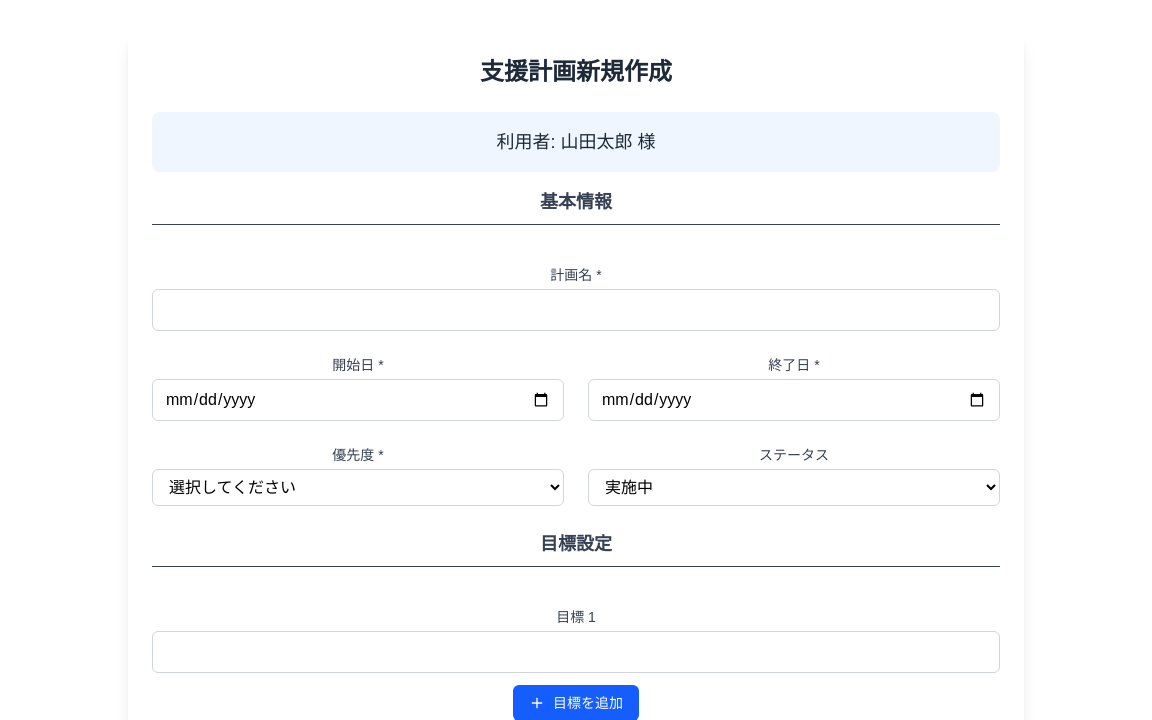
Scenario: SupportPlanForm › フォーム入力 › 目標を追加・削除できる
Expected: the field labelled "目標 1" is shown, x1=152 y1=631 x2=1000 y2=673
Step 1. Click the button "目標を追加" → click(576, 703), box x1=513 y1=685 x2=639 y2=719
(page scrolled)
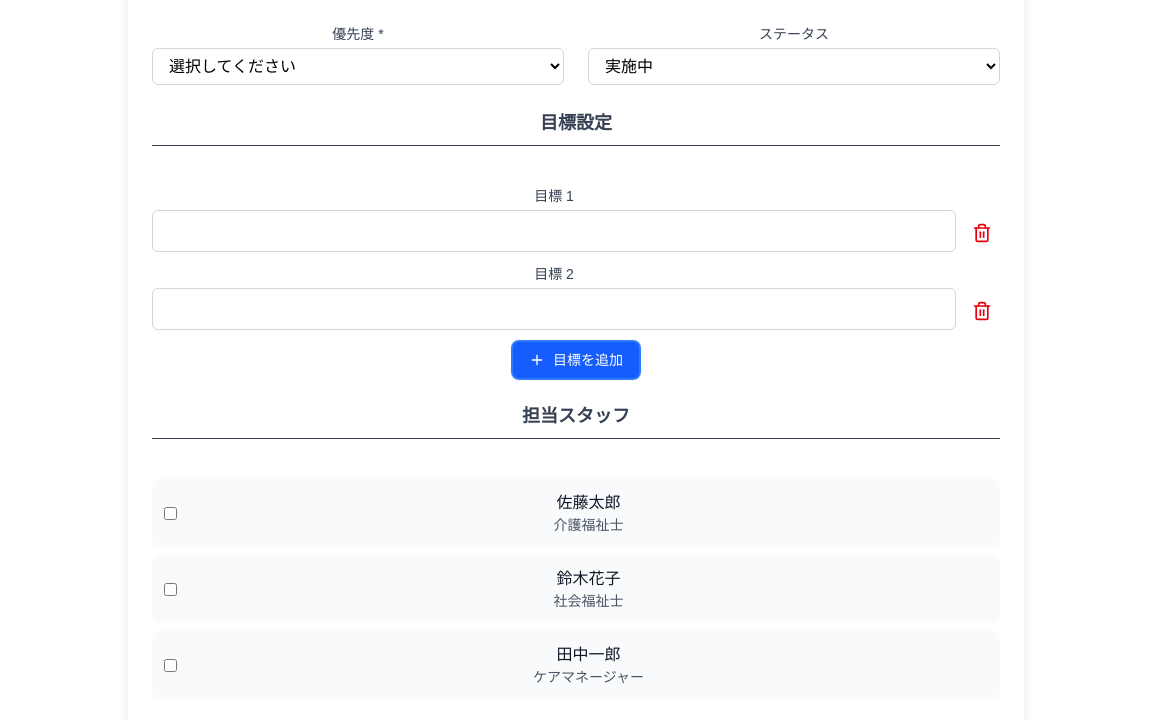
Now the field labelled "目標 2" is shown, box x1=152 y1=288 x2=956 y2=330
Step 2. Click the button "目標を追加" → click(576, 360), box x1=513 y1=342 x2=639 y2=378
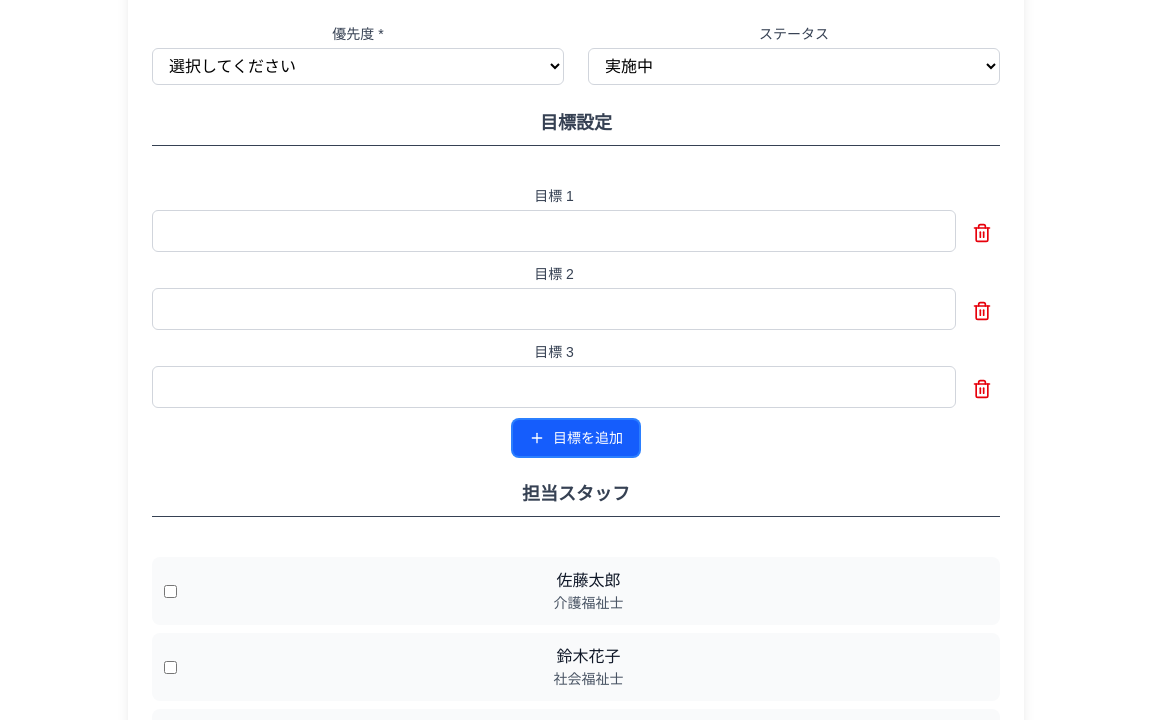
Now the field labelled "目標 3" is shown, box x1=152 y1=366 x2=956 y2=408
Step 3. Type "追加目標1" into the field labelled "目標 2" → (554, 309), box x1=152 y1=288 x2=956 y2=330
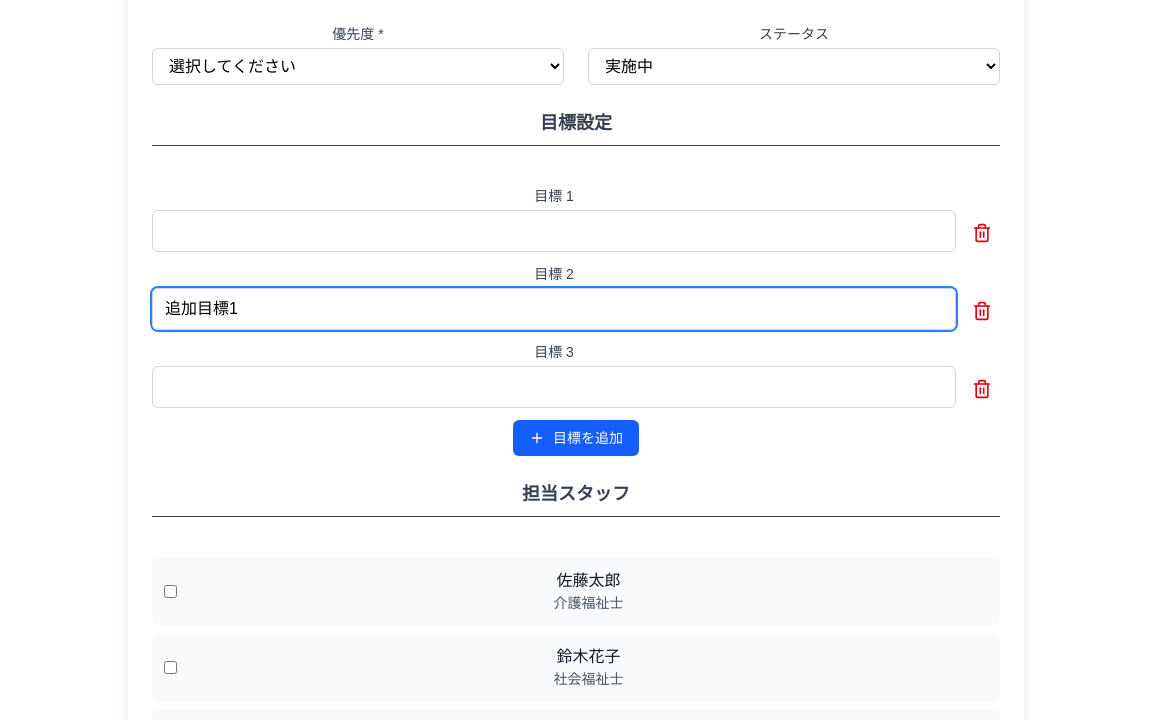
Step 4. Type "追加目標2" into the field labelled "目標 3" → (554, 387), box x1=152 y1=366 x2=956 y2=408
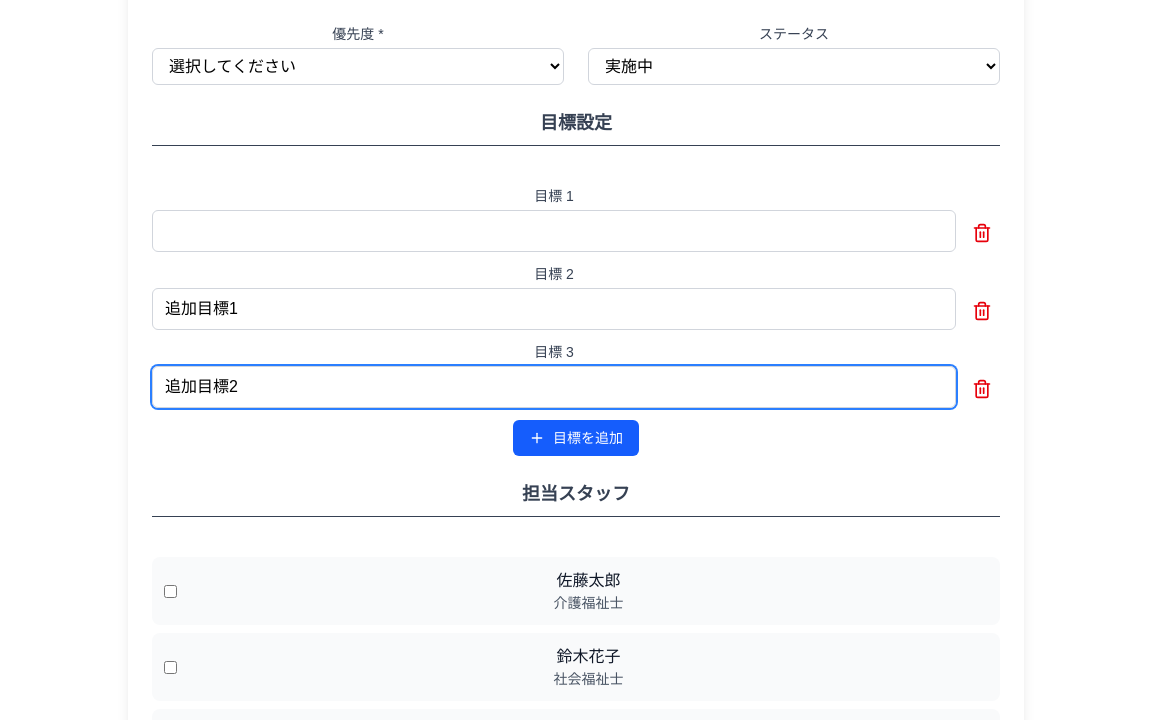
目標を削除（目標2を削除）
Step 5. Click the 2nd button named "削除" → click(982, 311), box x1=964 y1=292 x2=1000 y2=330
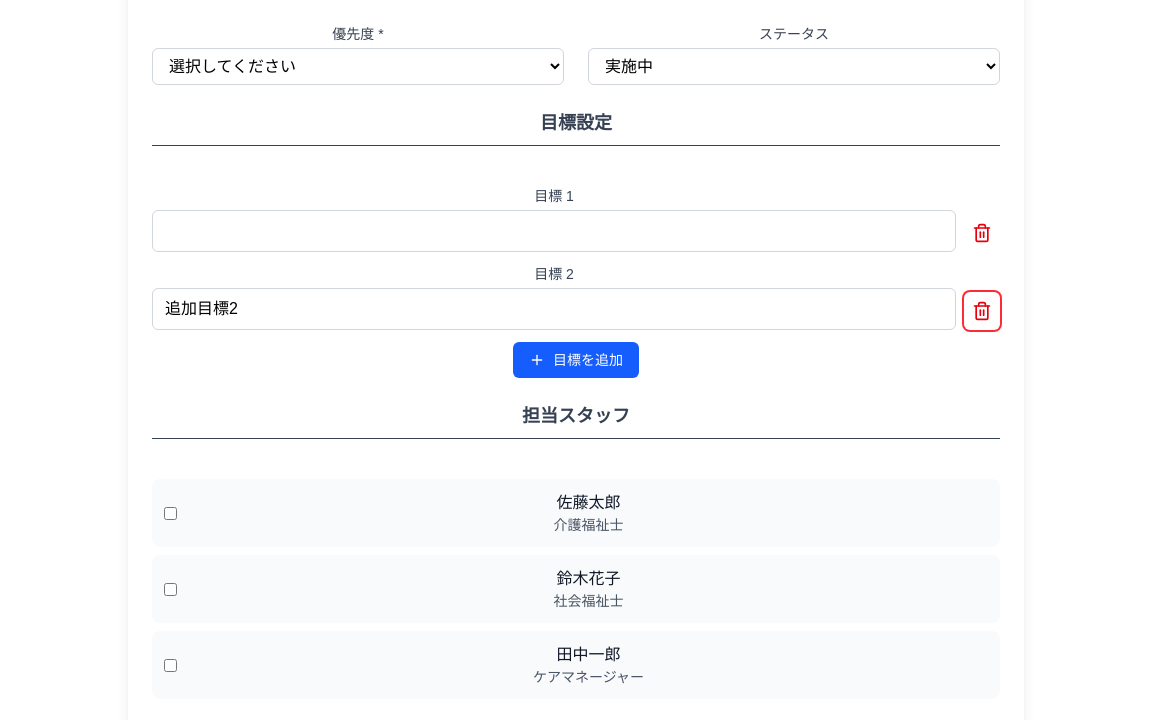
Expected: the field showing "追加目標1" is not shown
Now the field showing "追加目標2" is shown, box x1=152 y1=288 x2=956 y2=330
